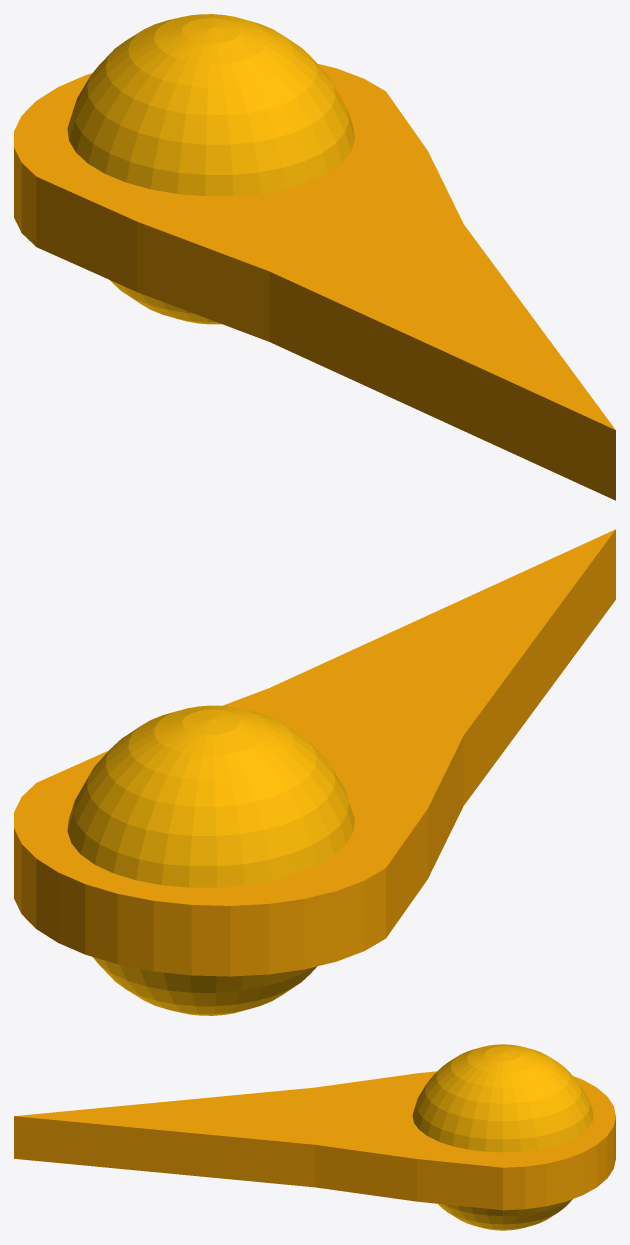
The model's file is PlayerBullet1.dae.
The picture shows the model from 3 angles, top to bottom: view 1: azimuth 30°, elevation 25°; view 2: azimuth 150°, elevation 25°; view 3: azimuth 270°, elevation 25°; orthographic projection. The views are drawn at different scales.
Visible parts, largest first — view 1: Sphere.001, Sphere; view 2: Sphere.001, Sphere; view 3: Sphere.001, Sphere.
Part boxes in pixels (left/top/right/bottom): Sphere.001: left=14, top=64, right=615, bottom=500; Sphere: left=67, top=14, right=354, bottom=324; Sphere.001: left=14, top=529, right=615, bottom=976; Sphere: left=67, top=705, right=354, bottom=1015; Sphere.001: left=14, top=1071, right=615, bottom=1210; Sphere: left=412, top=1044, right=593, bottom=1230.
Size of the model in its own units: 1.04 by 2.56 by 0.8.
